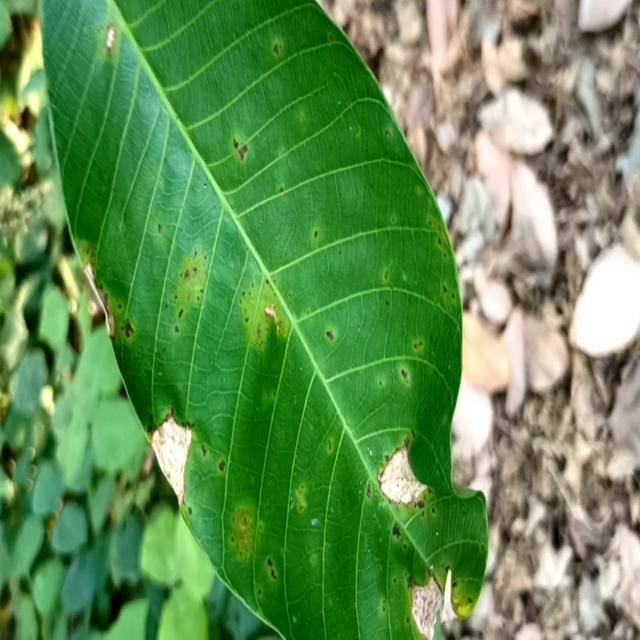Leaf-Blight: (151, 416, 193, 507), (411, 567, 457, 640), (380, 446, 427, 505), (83, 261, 116, 339)
